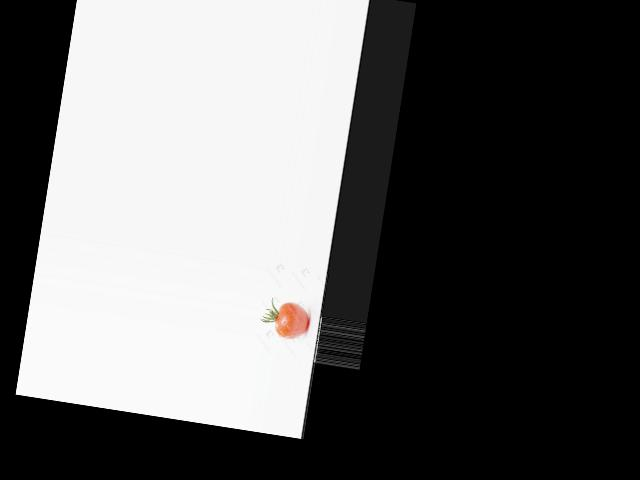tomato: (274, 300, 311, 341)
